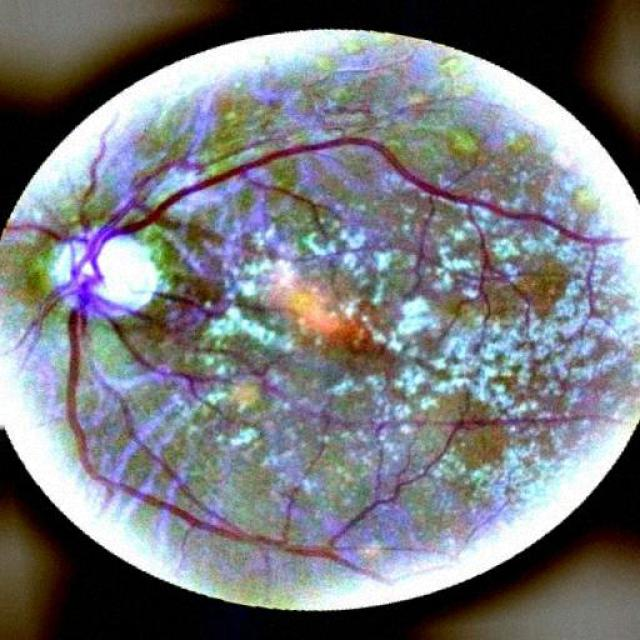Nerves: (6, 135, 618, 576), (294, 302, 396, 391), (152, 282, 292, 345)
Optic Disk: (52, 228, 159, 318)
